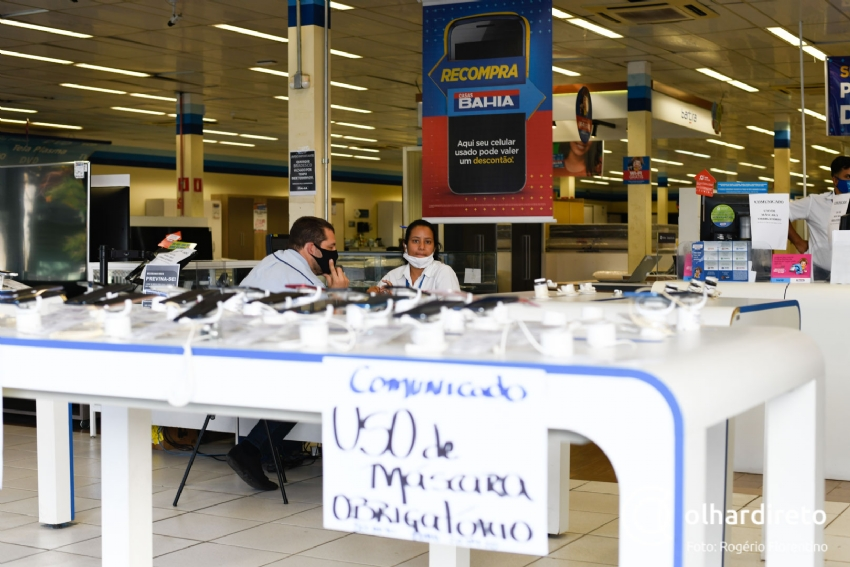mask_weared_incorrect: (403, 225, 440, 270)
